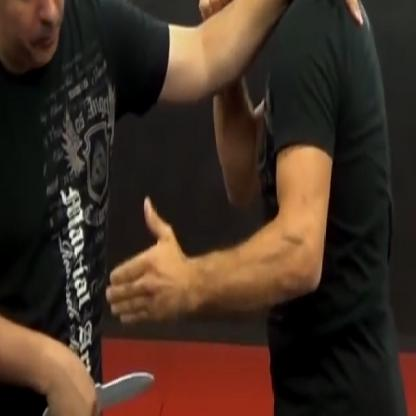knife: (40, 359, 161, 415)
